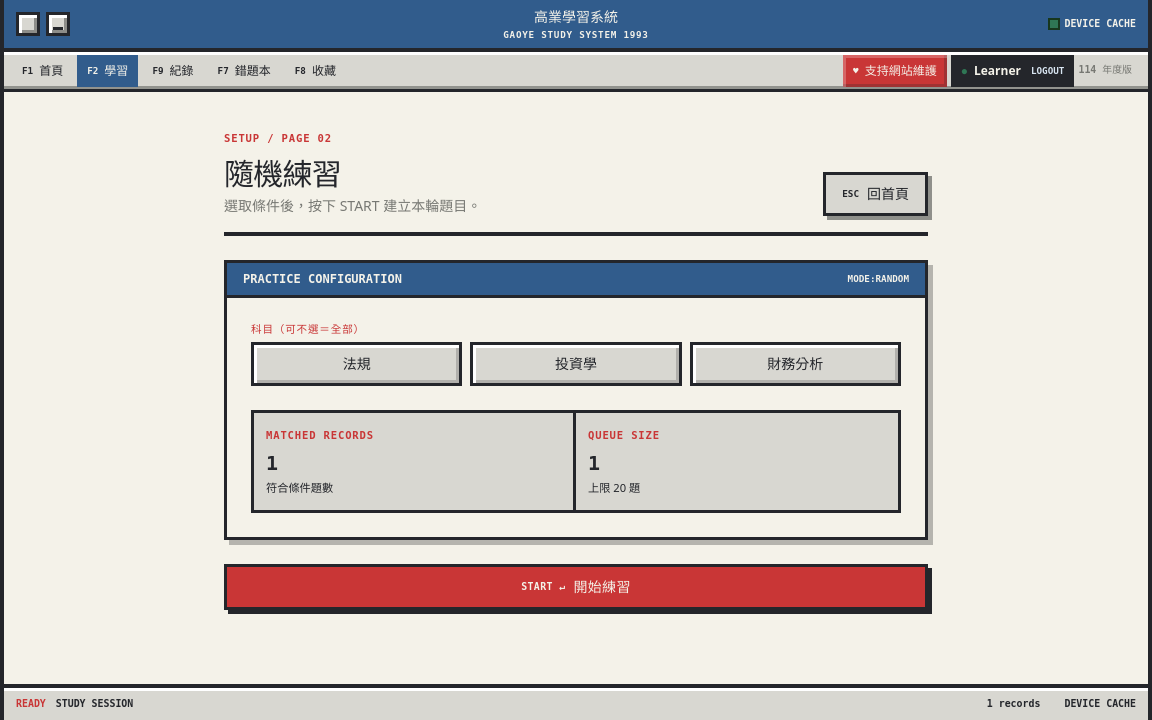
it: App 練習流程 › 作答後停在原題顯示正解，不因 App 重繪而卸載重掛（回歸：答完跳掉）
The image size is (1152, 720).
Expected: the text "高業學習系統" is shown, x1=534 y1=7 x2=618 y2=26
Expected: the footer shows "DEVICE CACHE", x1=1064 y1=698 x2=1136 y2=709
Note: 進入設定頁 → 開始練習
Click the button "START ↵ 開始練習": coordinates (576, 587) x1=224 y1=564 x2=928 y2=610
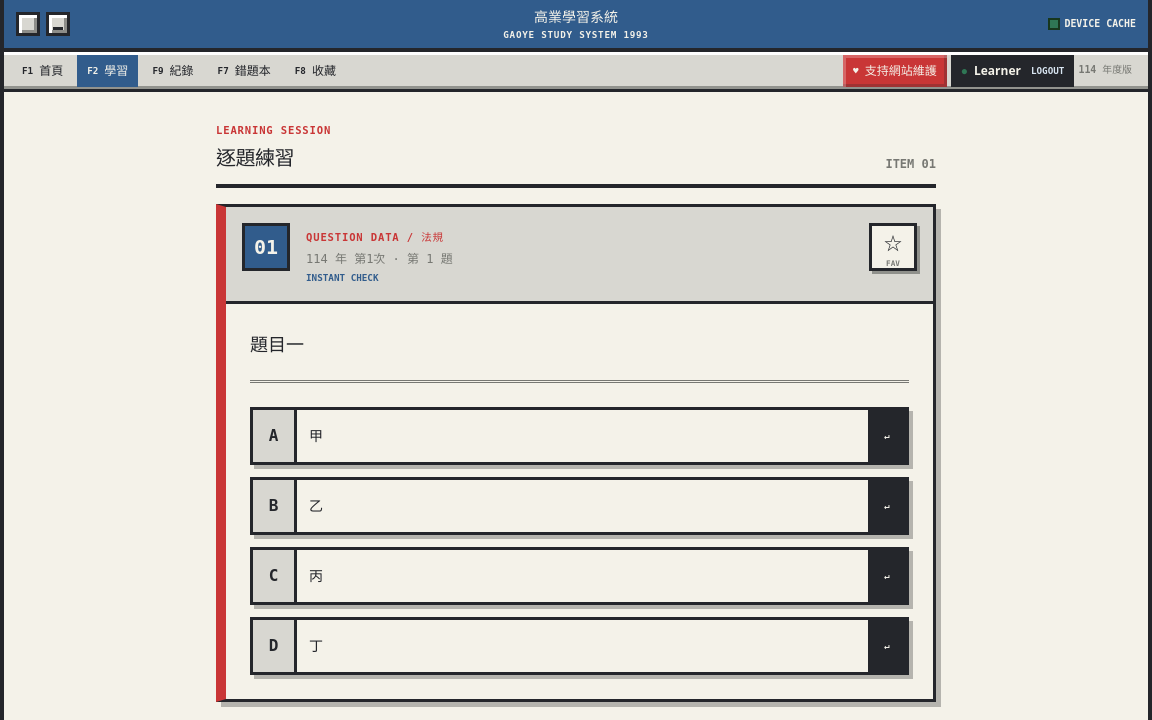
Now the text "題目一" is shown, box x1=250 y1=328 x2=909 y2=383
Note: 作答（會呼叫 progress.answer → 觸發 App 重繪）
Click the text "丙": coordinates (316, 575) x1=309 y1=566 x2=323 y2=585
(page scrolled)
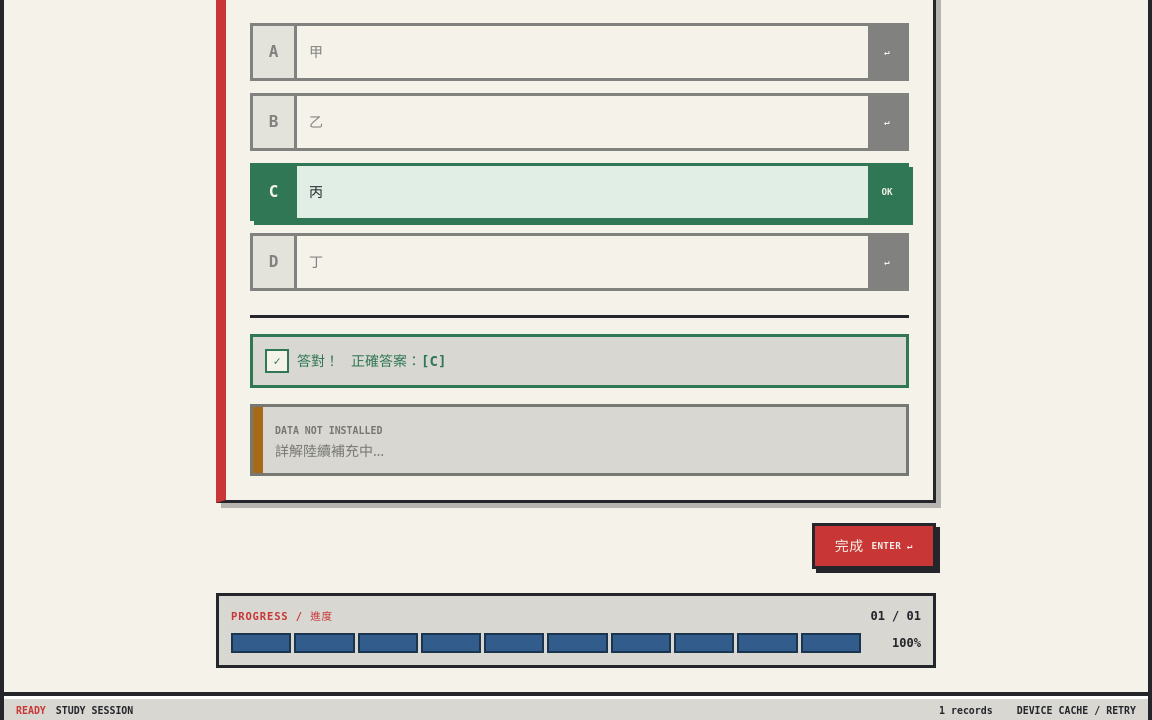
Expected: the button "開始練習" is not shown
Now the text "正確答案：[C]" is shown, box x1=351 y1=351 x2=446 y2=371
